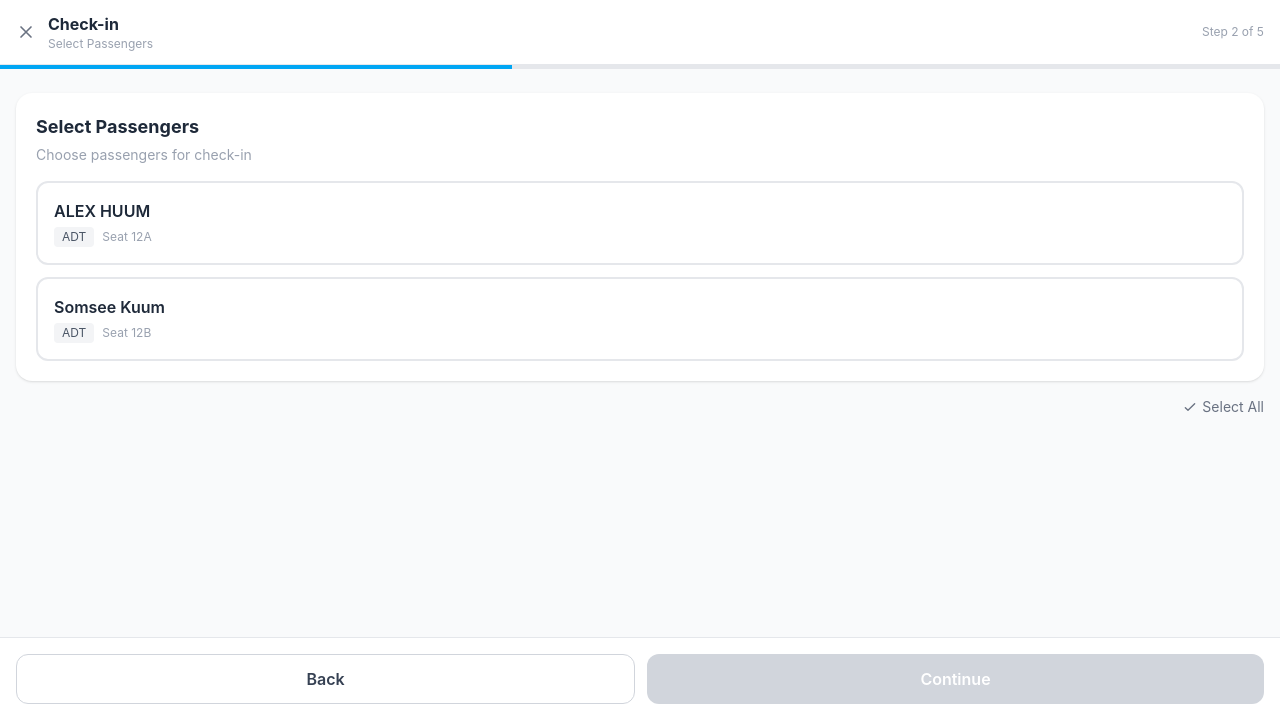
Scenario: SelectPassengers › clears all passengers with Clear All
The width and height of the screenshot is (1280, 720).
Click the button "Select All" at coordinates (1223, 407), box x1=1182 y1=397 x2=1264 y2=417
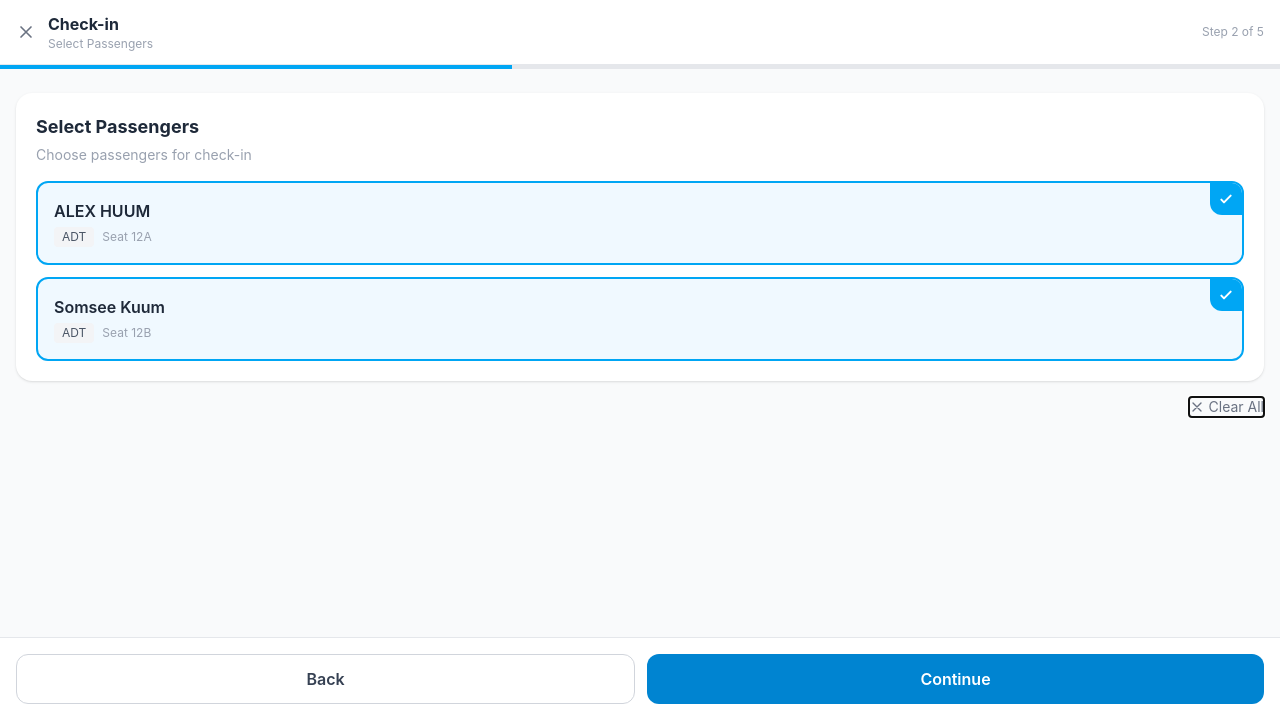
Click the button "Clear All" at coordinates (1226, 407), box x1=1189 y1=397 x2=1264 y2=417
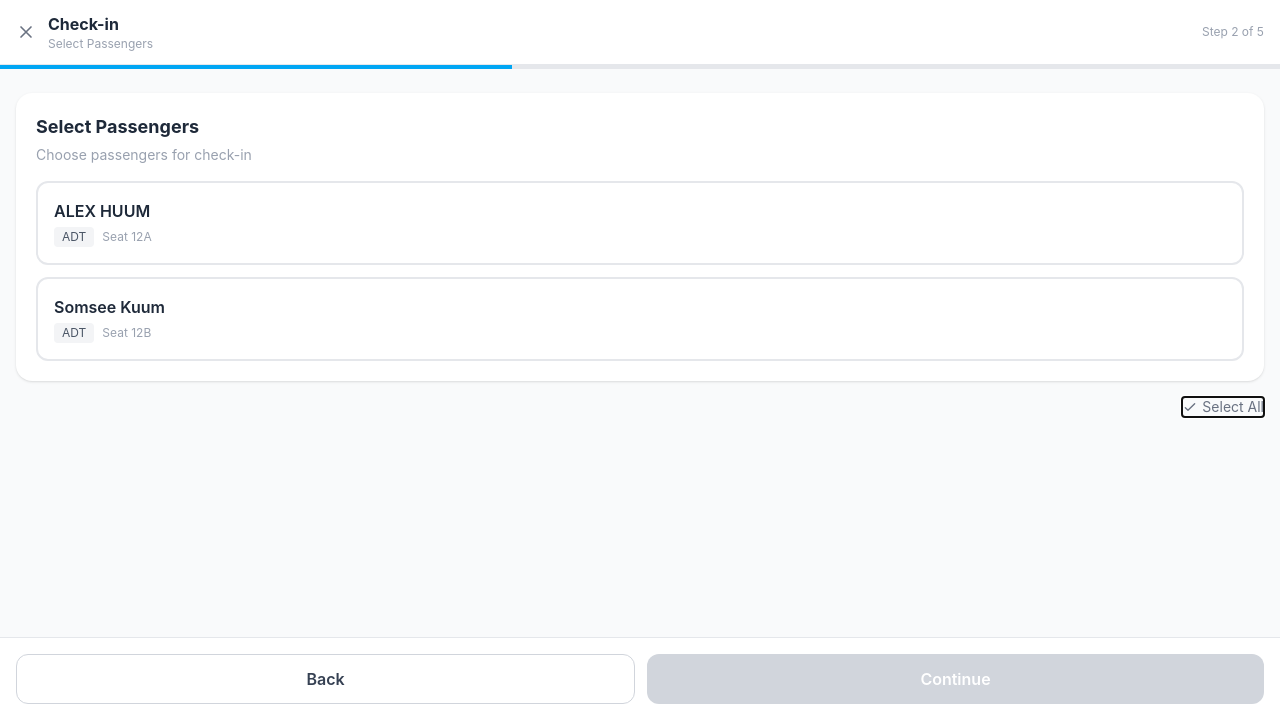
Now the button "Continue" is disabled, box x1=647 y1=654 x2=1264 y2=704
